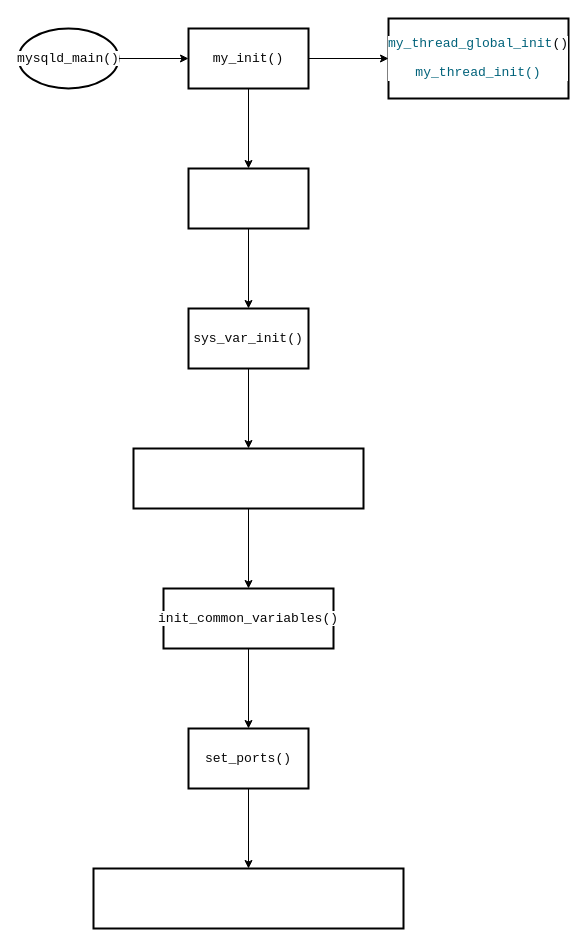
This 586x946 diagram has some shape labels left out. Here are the shapes that lost their labels. From the top down, the box of each, then its label:
(187, 167, 309, 229): load_defaults ()
(132, 447, 364, 509): component_infrastructure_init ()
(92, 867, 404, 929): plugin_register_builtin_and_init_core_se()
